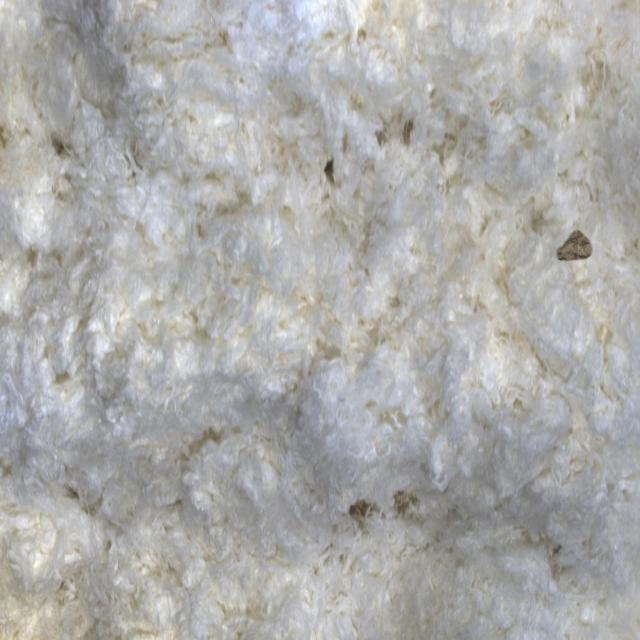dust: (540, 202, 616, 297)
